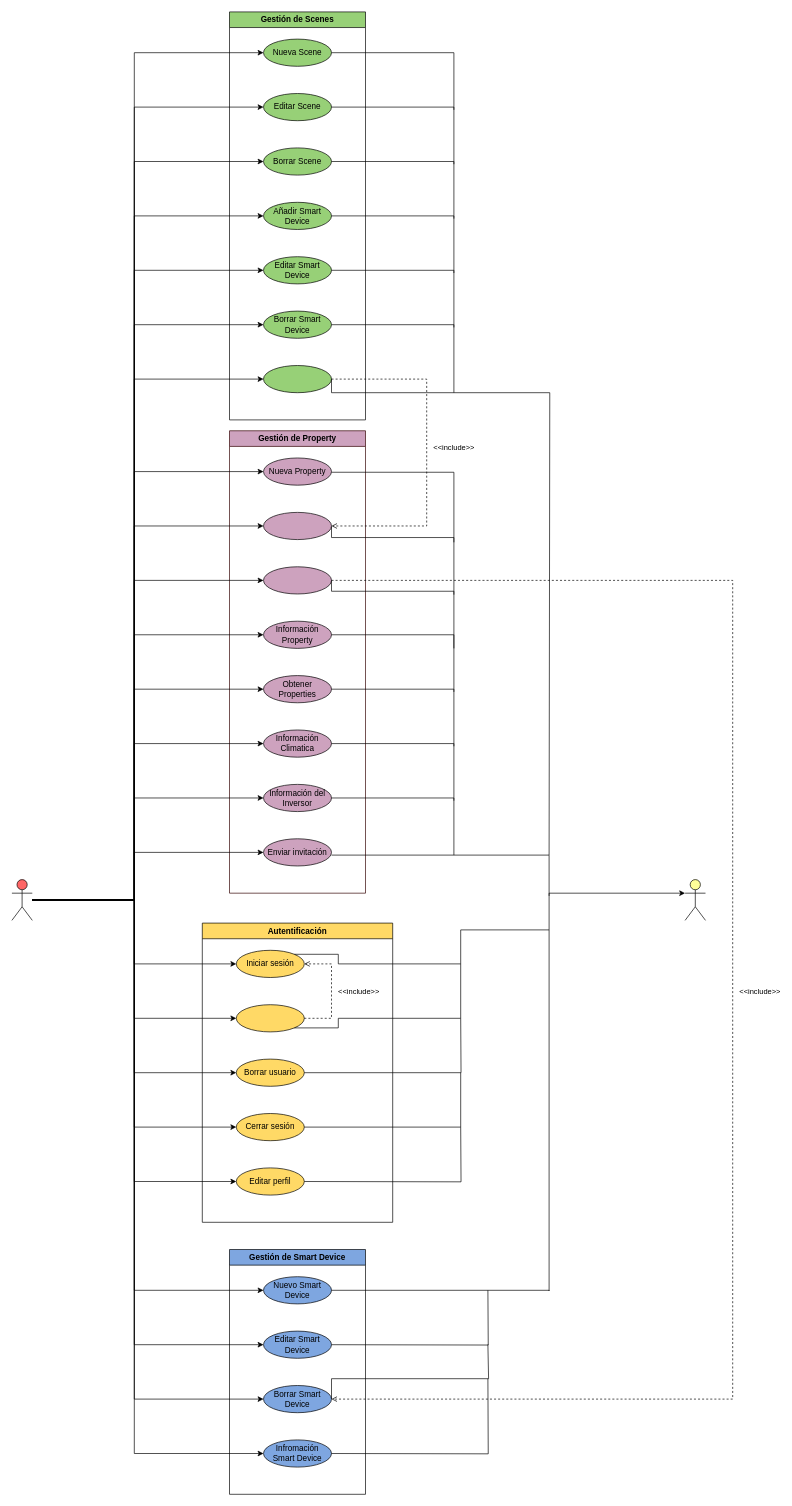
This 792x1506 diagram has some shape labels left out. The shapes that lost their labels are listed below. From the top down, each one's centre as x and y in pixels, then its label:
the point at 297,379: Aplicar Scene
the point at 297,526: Editar Property
the point at 297,580: Borrar Property
the point at 21,899: User
the point at 695,899: DB
the point at 270,1018: Crear usuario
